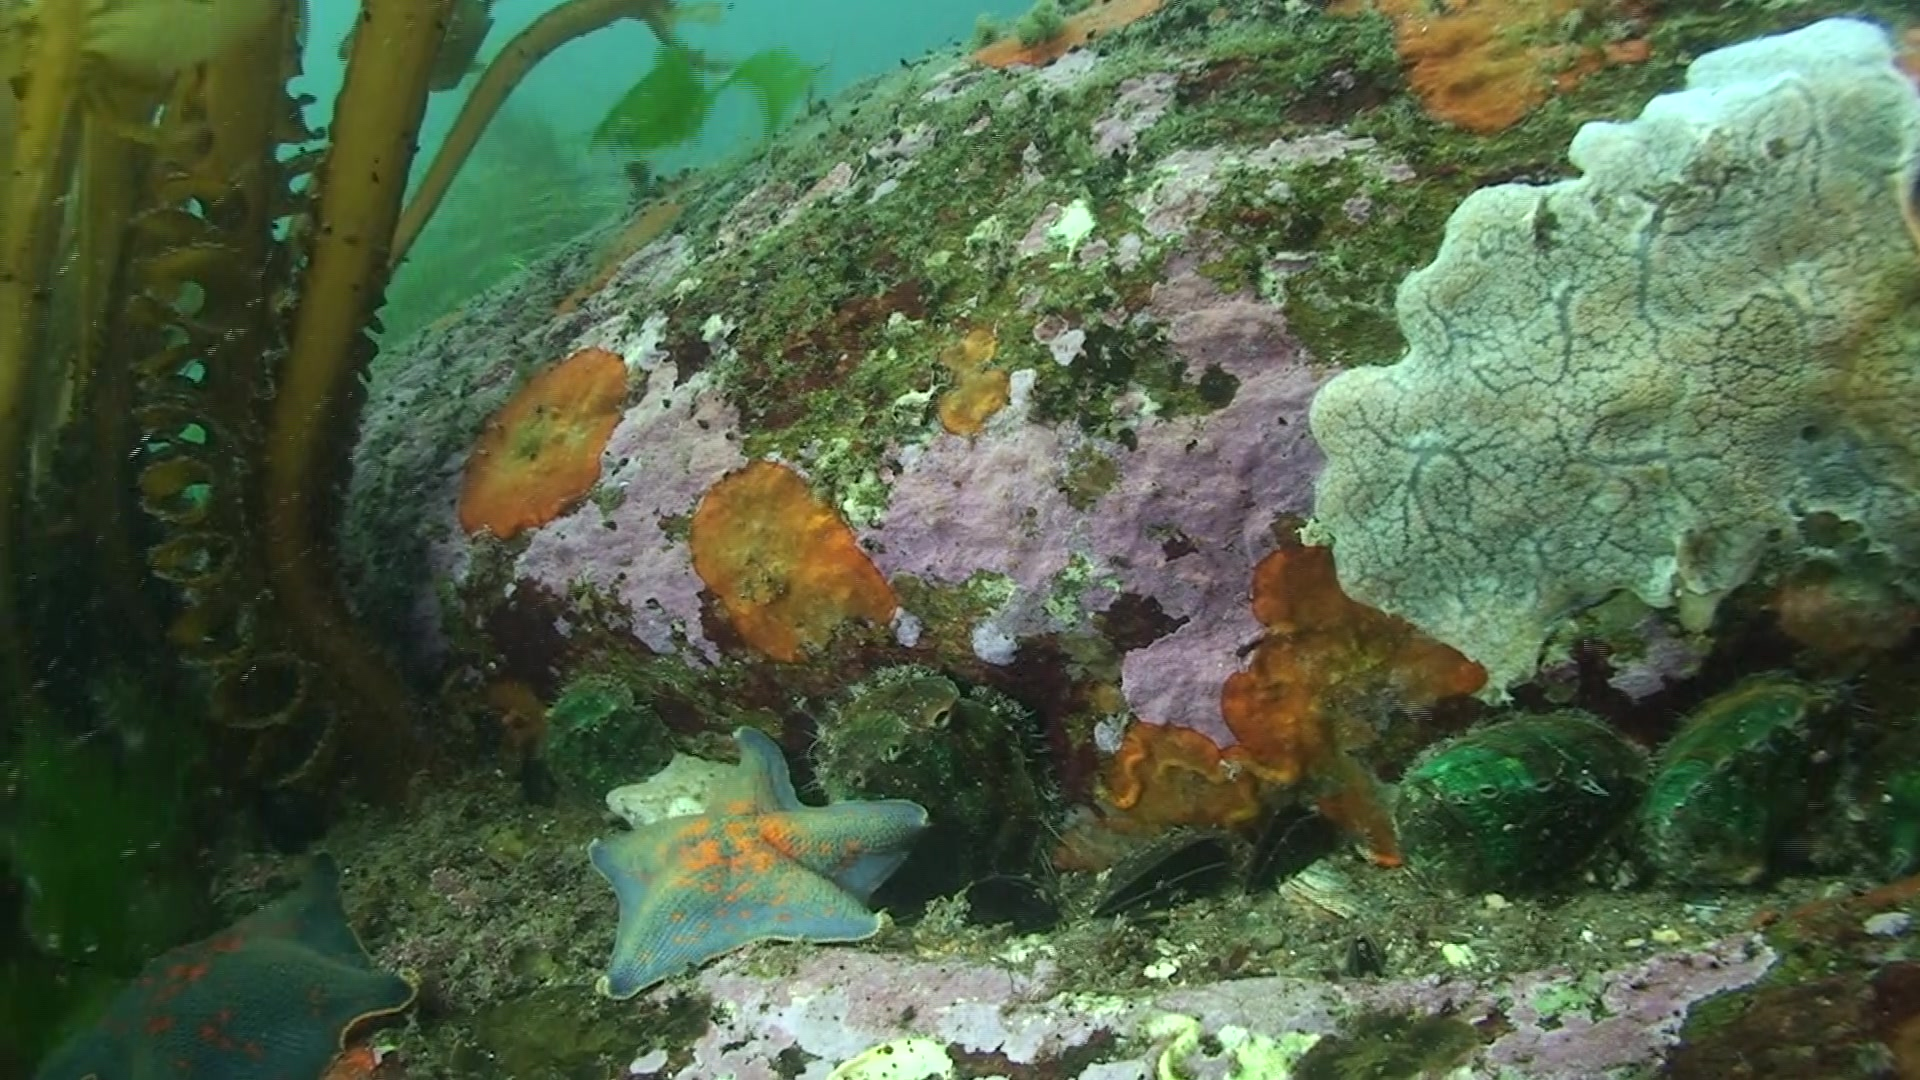starfish: (593, 723, 930, 1006), (32, 847, 418, 1080)
